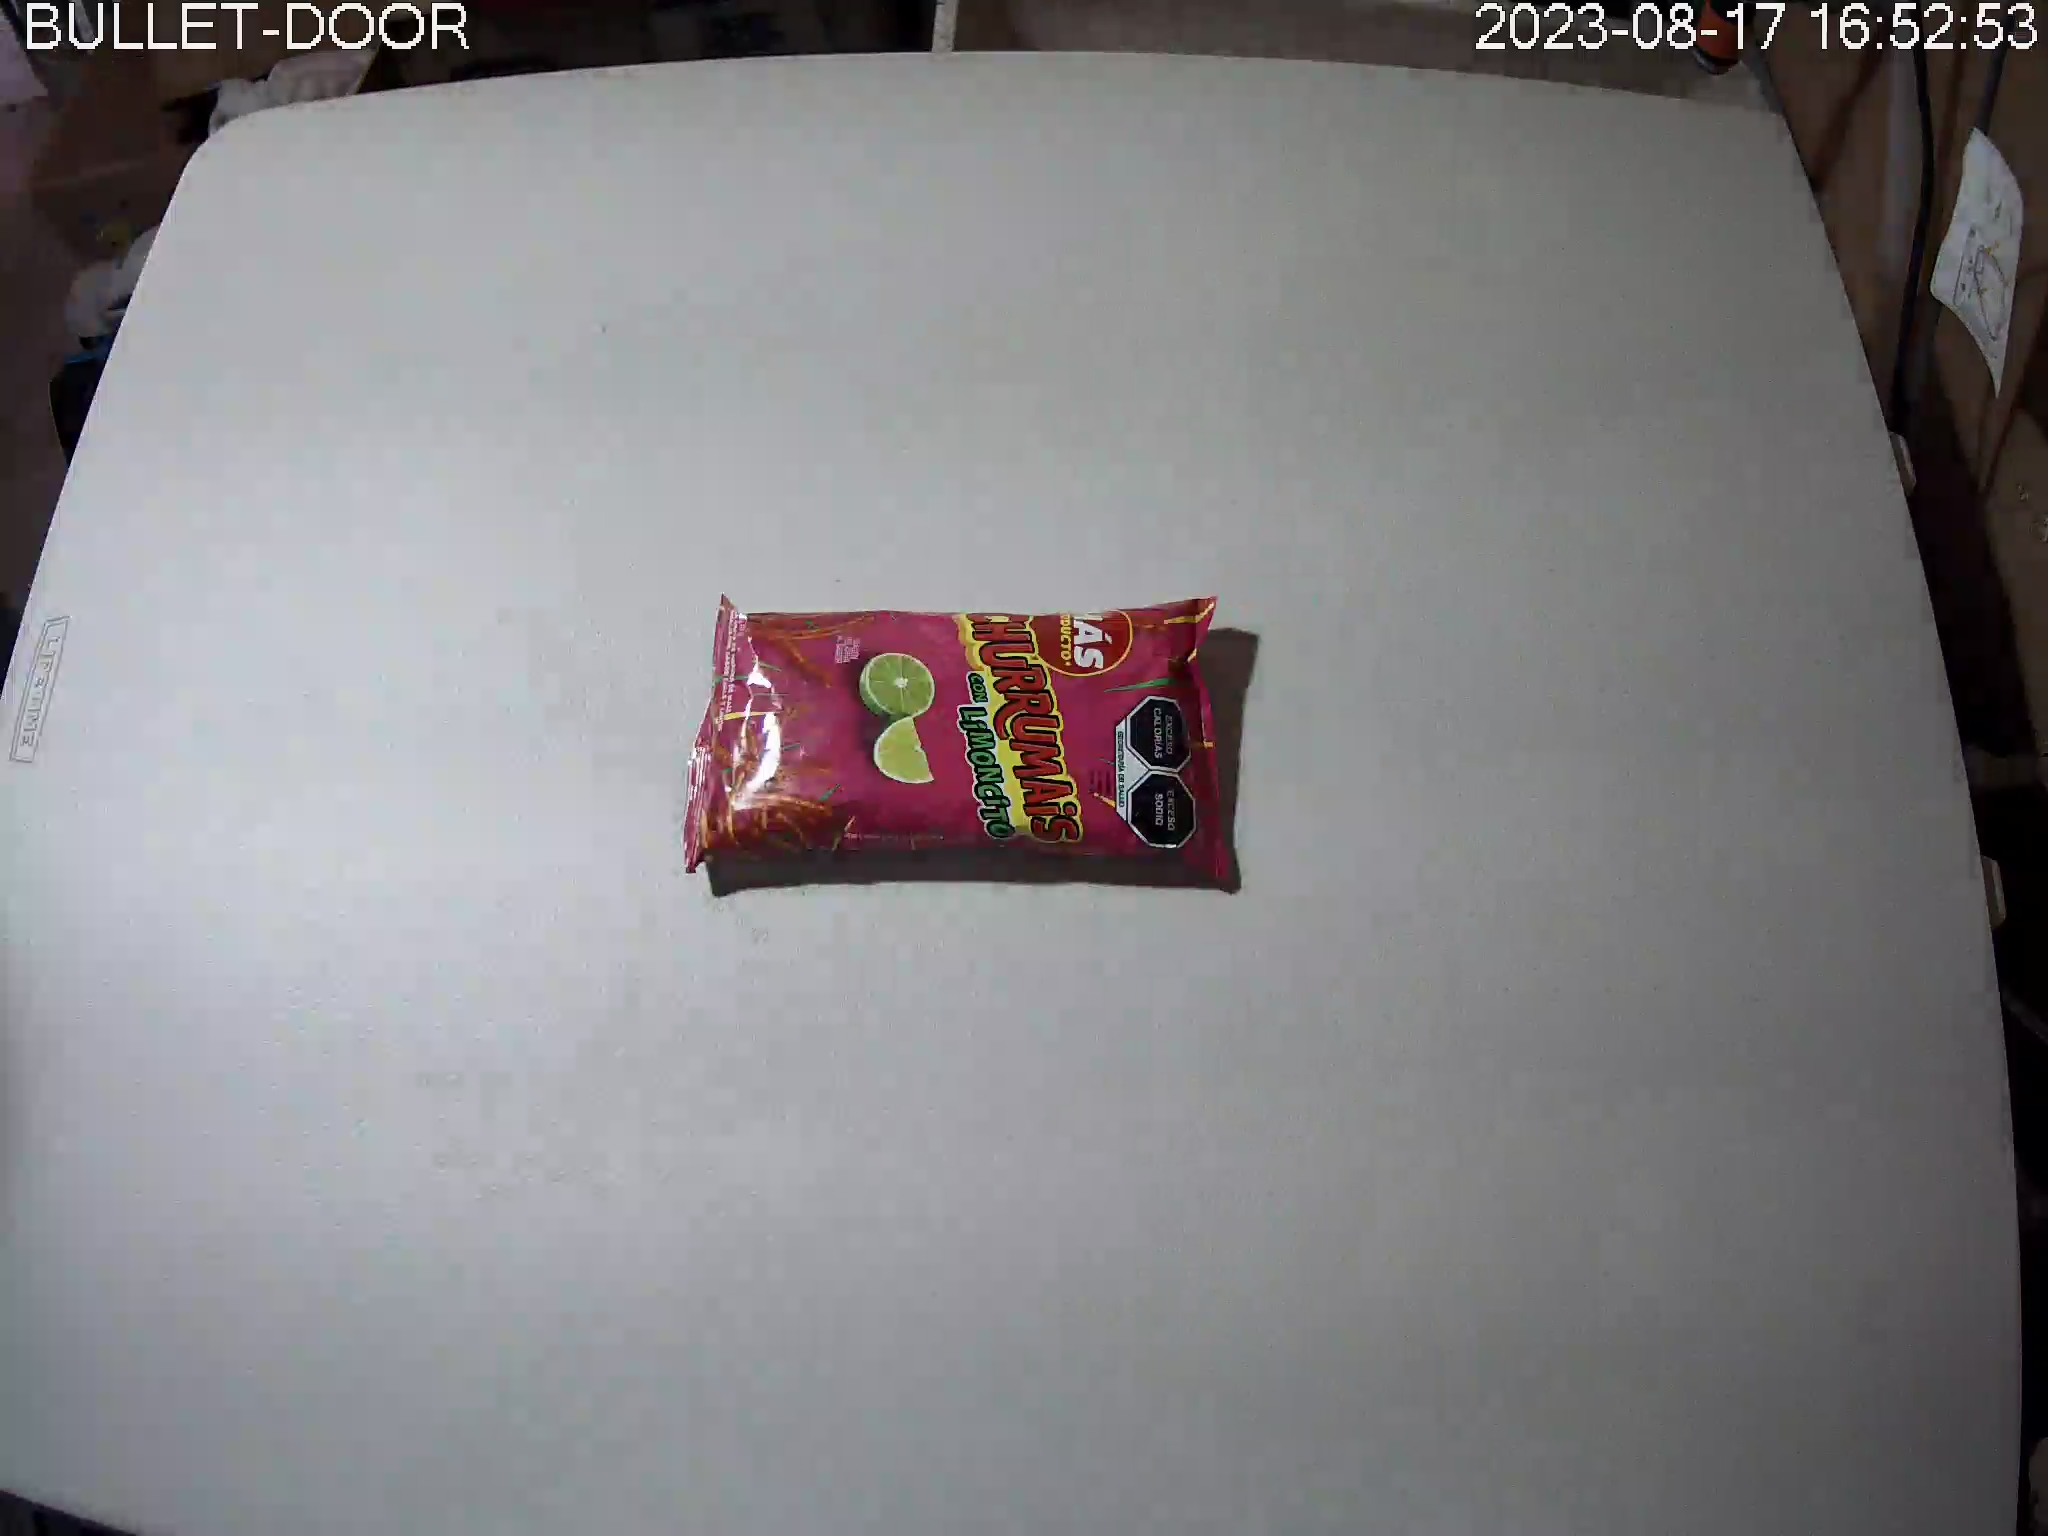Churrumais_70_F: (681, 594, 1235, 894)
